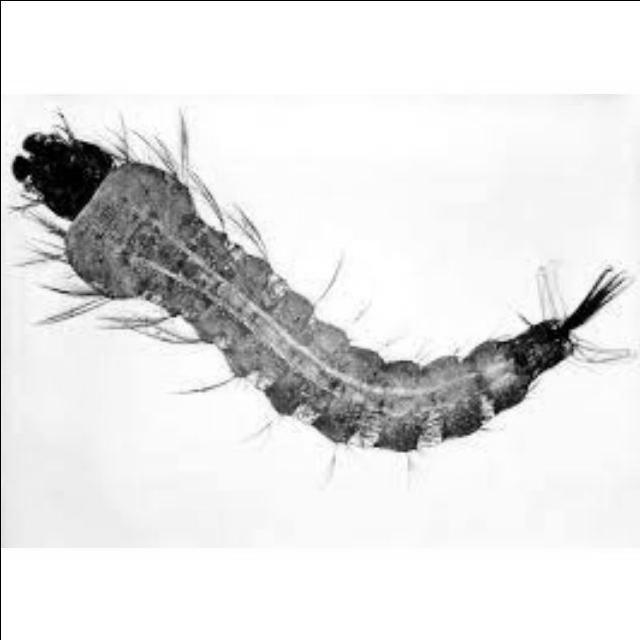larvas: (23, 132, 610, 450)
